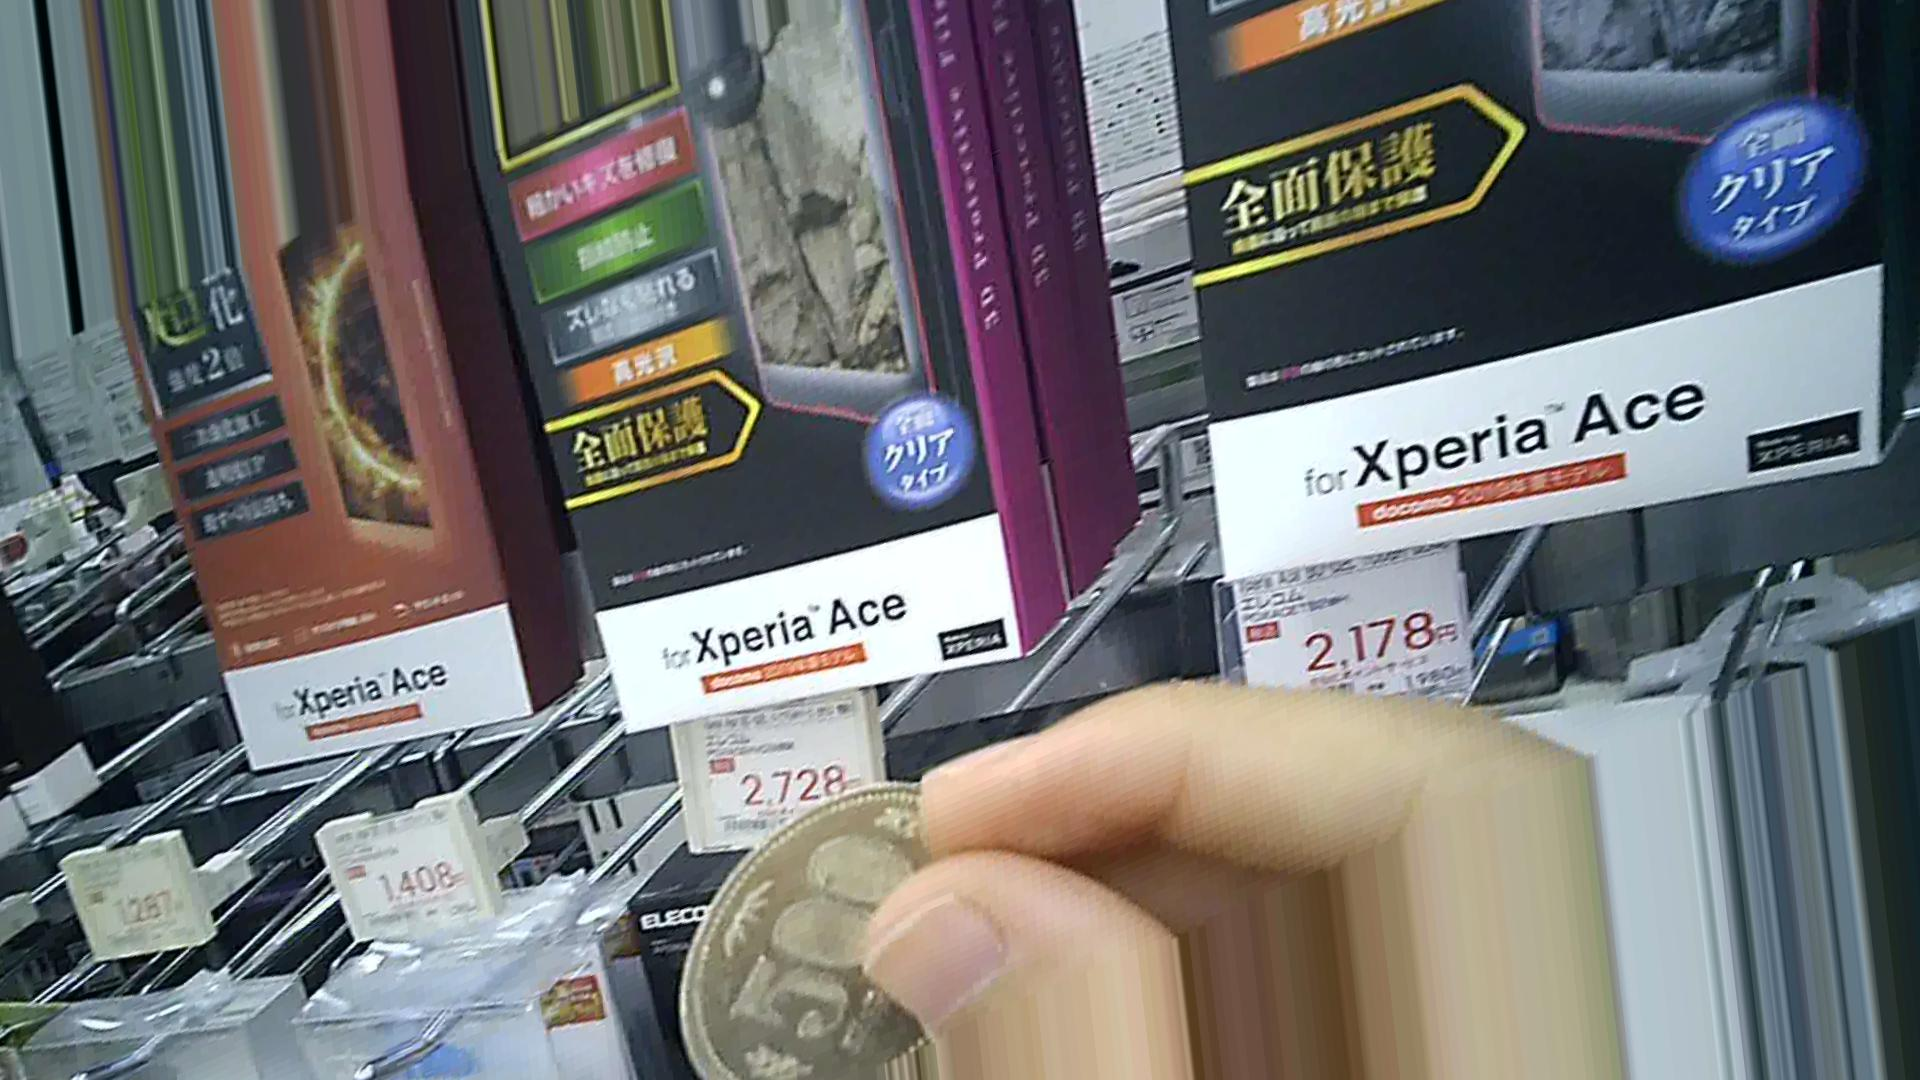500 Yen: (665, 746, 992, 1079)
